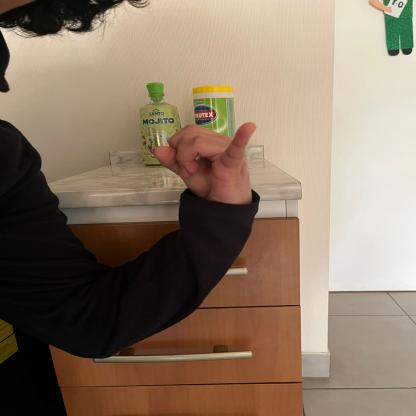I: (155, 113, 264, 214)
